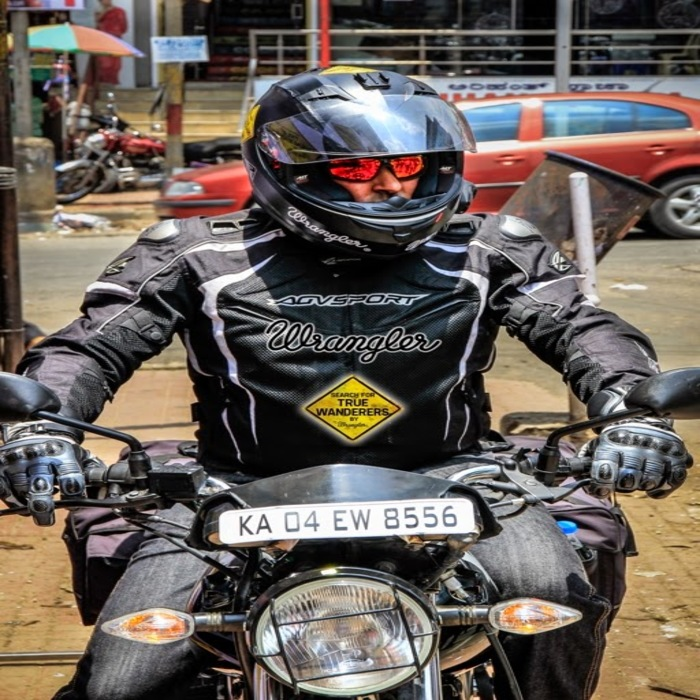h: (238, 62, 478, 266)
n: (216, 499, 482, 547)
